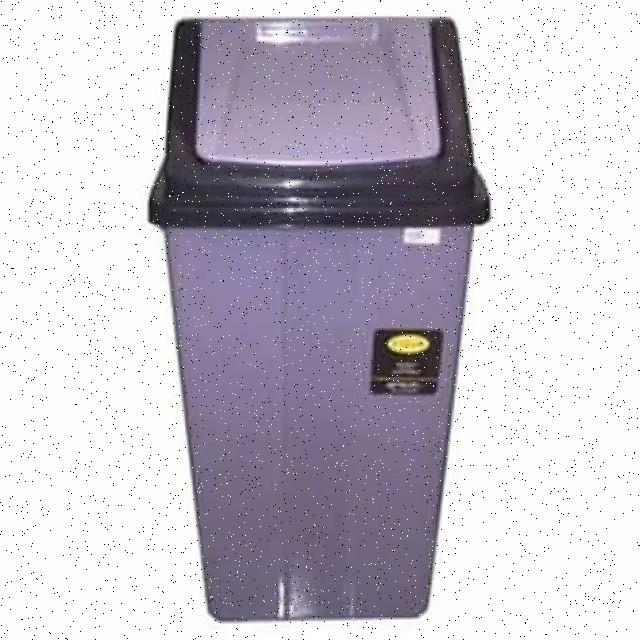garbage container: (92, 6, 574, 626)
